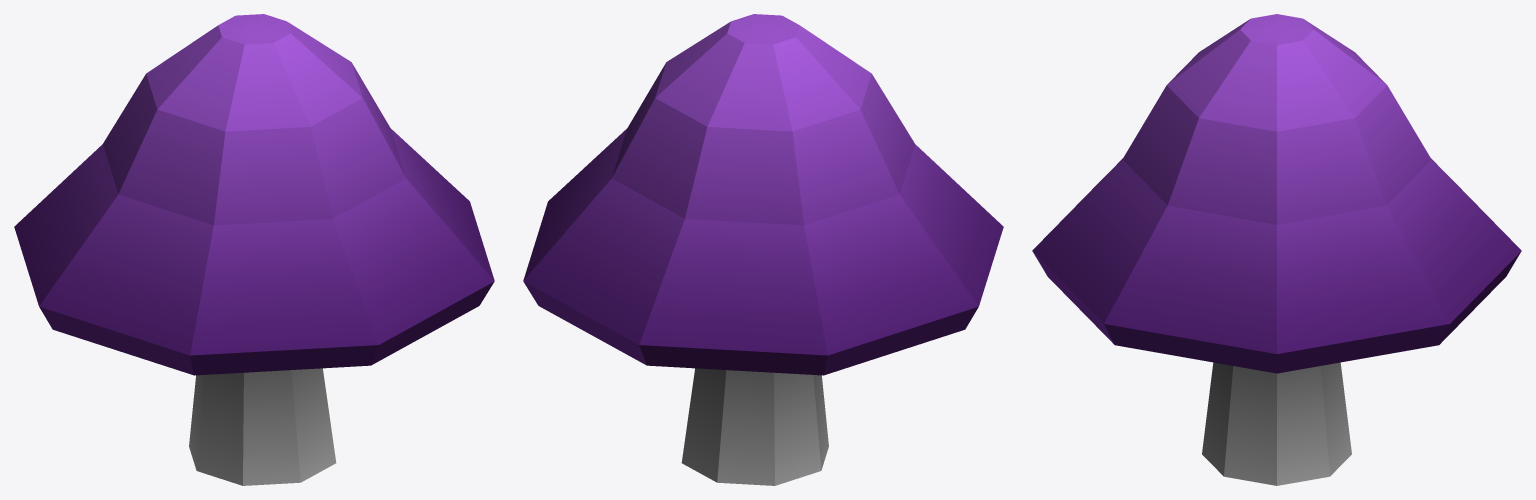
The model's file is MushroomMediumPurple.FBX.
3 renders of one model, left to right at view 1: azimuth 30°, elevation 25°; view 2: azimuth 150°, elevation 25°; view 3: azimuth 270°, elevation 25°, orthographic.
Visible parts, largest first — view 1: Cylinder051; view 2: Cylinder051; view 3: Cylinder051.
Part boxes in pixels (box(x1,y1,x2,y2)): Cylinder051: box(14, 14, 494, 485); Cylinder051: box(523, 14, 1003, 485); Cylinder051: box(1032, 14, 1521, 485).
Size of the model in its own units: 39.22 by 37.26 by 39.22.
